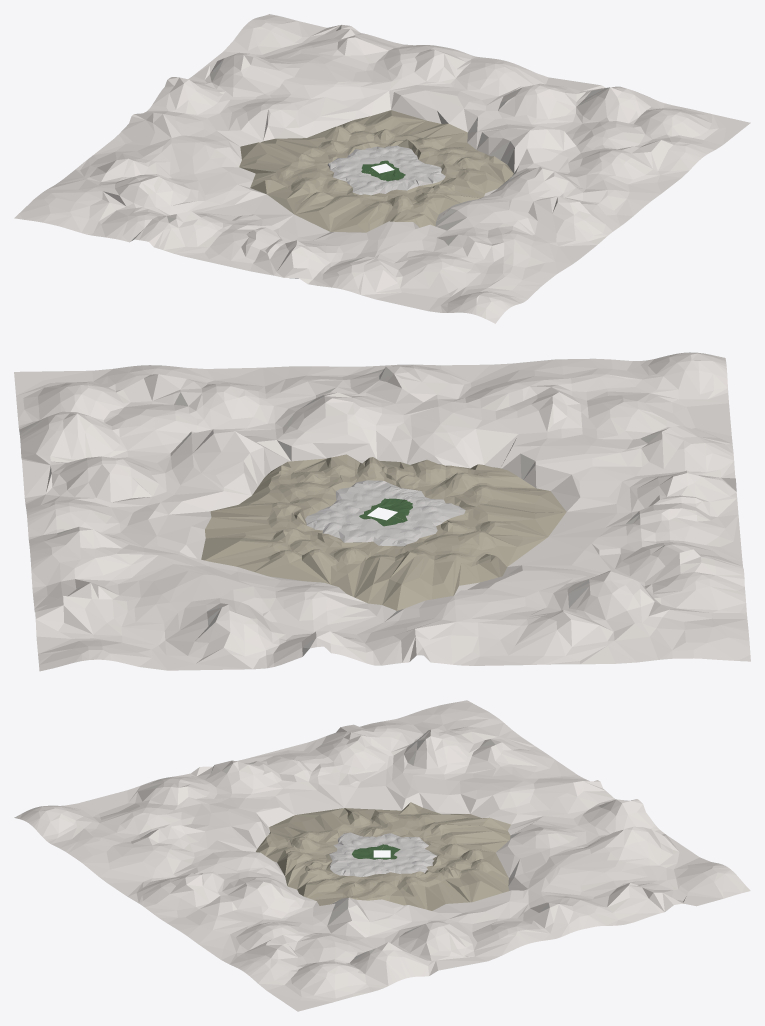
The model's file is terrains.fbx.
3 renders of one model, top to bottom at view 1: azimuth 30°, elevation 25°; view 2: azimuth 150°, elevation 25°; view 3: azimuth 270°, elevation 25°, orthographic. The views are drawn at different scales.
Parts seen in each view (by area): view 1: terrain; view 2: terrain; view 3: terrain.
Part boxes in pixels (left/top/right/bottom): terrain: left=14, top=14, right=750, bottom=323; terrain: left=14, top=352, right=750, bottom=671; terrain: left=14, top=700, right=750, bottom=1011.
Size of the model in its own units: 42968 by 1920 by 42968.
